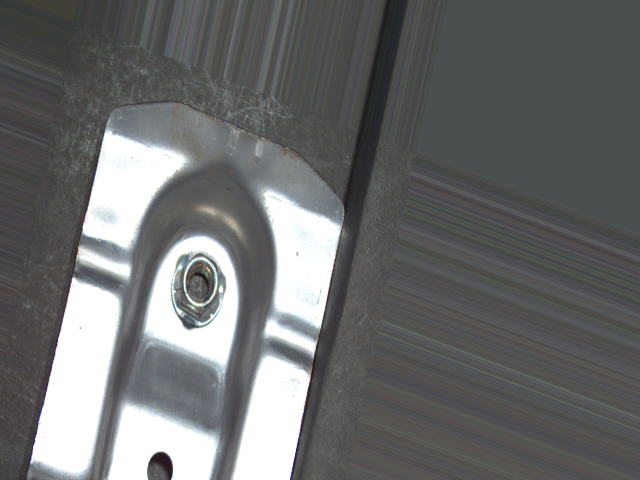good: (169, 249, 232, 338)
